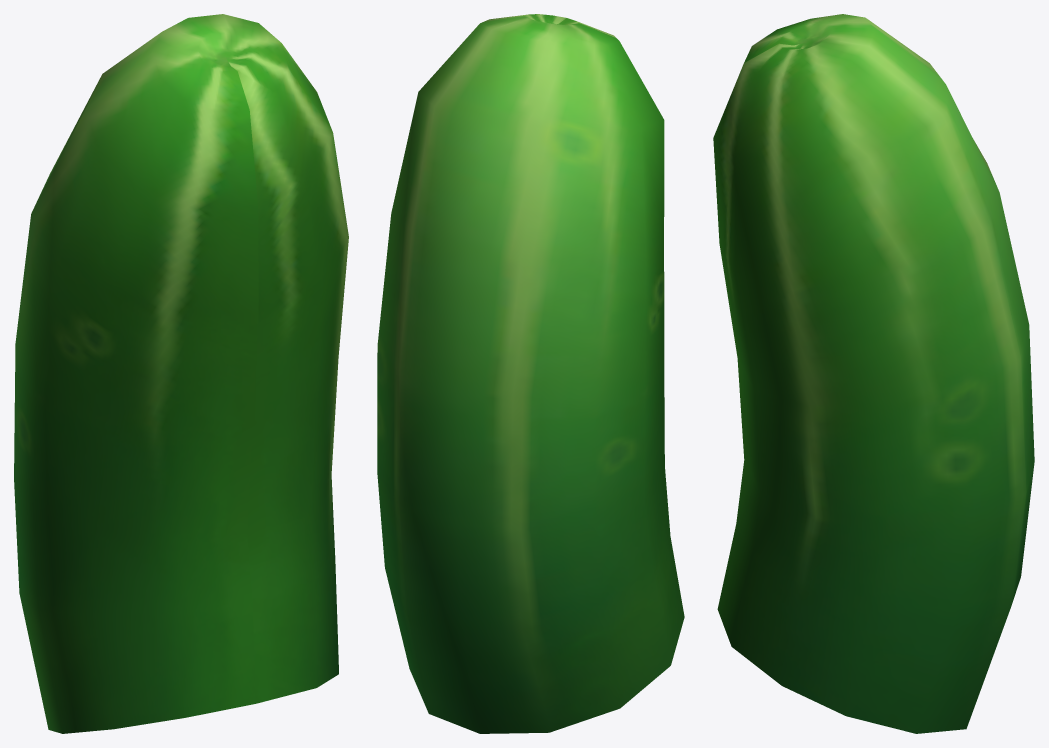
File: cucumber.fbx
3 renders of one model, left to right at view 1: azimuth 30°, elevation 25°; view 2: azimuth 150°, elevation 25°; view 3: azimuth 270°, elevation 25°, orthographic. The views are drawn at different scales.
Parts seen in each view (by area): view 1: mesh0; view 2: mesh0; view 3: mesh0.
Boxes of the visible parts, <box> form: mesh0: <box>14,14,348,733</box>; mesh0: <box>377,14,684,733</box>; mesh0: <box>713,14,1034,733</box>.
Size of the model in its own units: 4.67 by 11.49 by 4.92.
